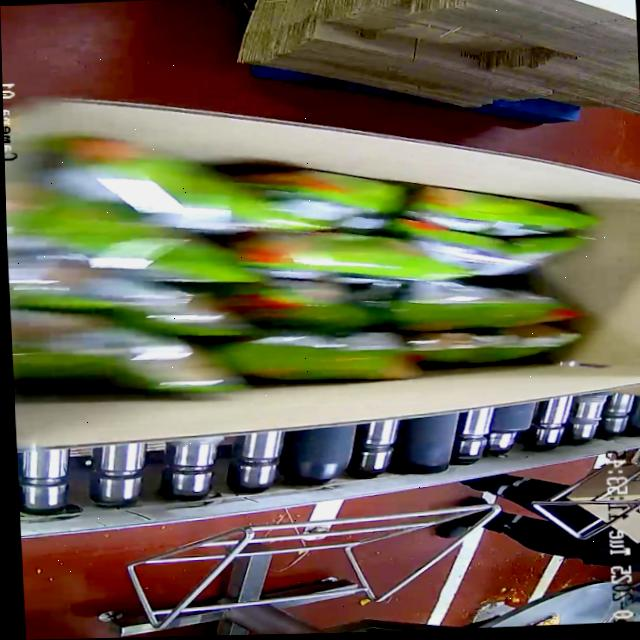YOGURT_HERB: (27, 139, 575, 395)
